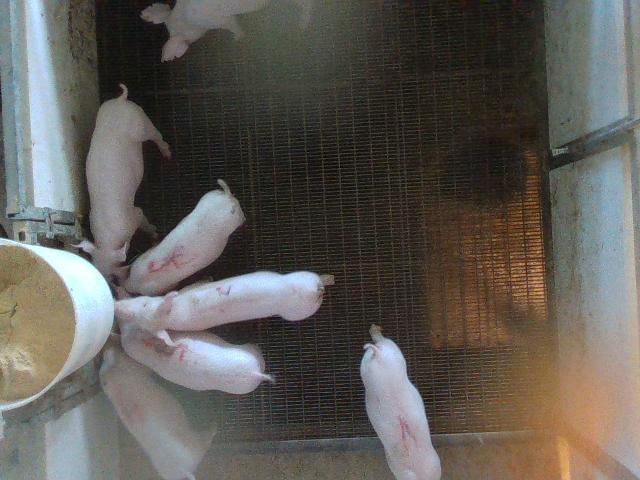pig-1: (360, 335, 441, 479)
pig-3: (121, 324, 274, 393)
pig-4: (100, 335, 216, 479)
pig-5: (125, 180, 245, 296)
